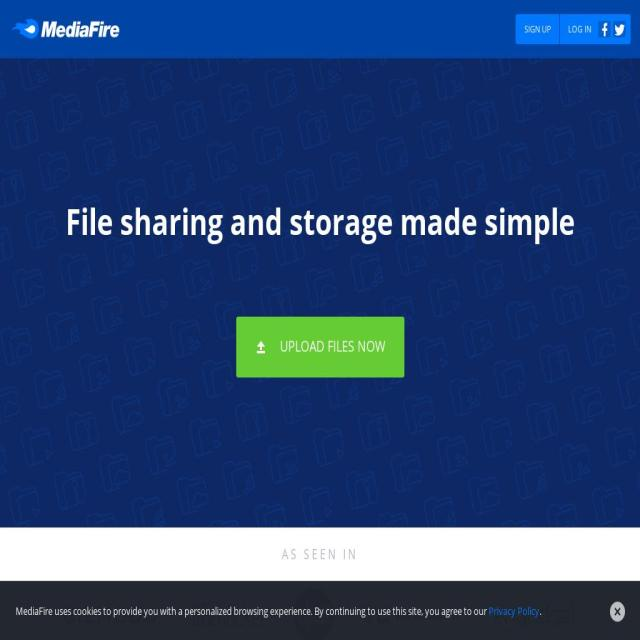button: (236, 317, 404, 378), (10, 18, 128, 48), (560, 14, 631, 44), (516, 14, 560, 44), (604, 593, 631, 630)
heading: (25, 192, 615, 250), (9, 18, 122, 40)
image: (493, 602, 600, 634), (191, 602, 286, 634), (62, 605, 182, 629), (363, 606, 483, 629), (294, 588, 344, 640), (613, 21, 626, 37), (598, 21, 611, 37)
link: (489, 604, 539, 618)
text: (0, 544, 640, 566), (16, 604, 488, 618), (610, 602, 625, 622), (568, 23, 591, 35), (540, 604, 542, 618)
